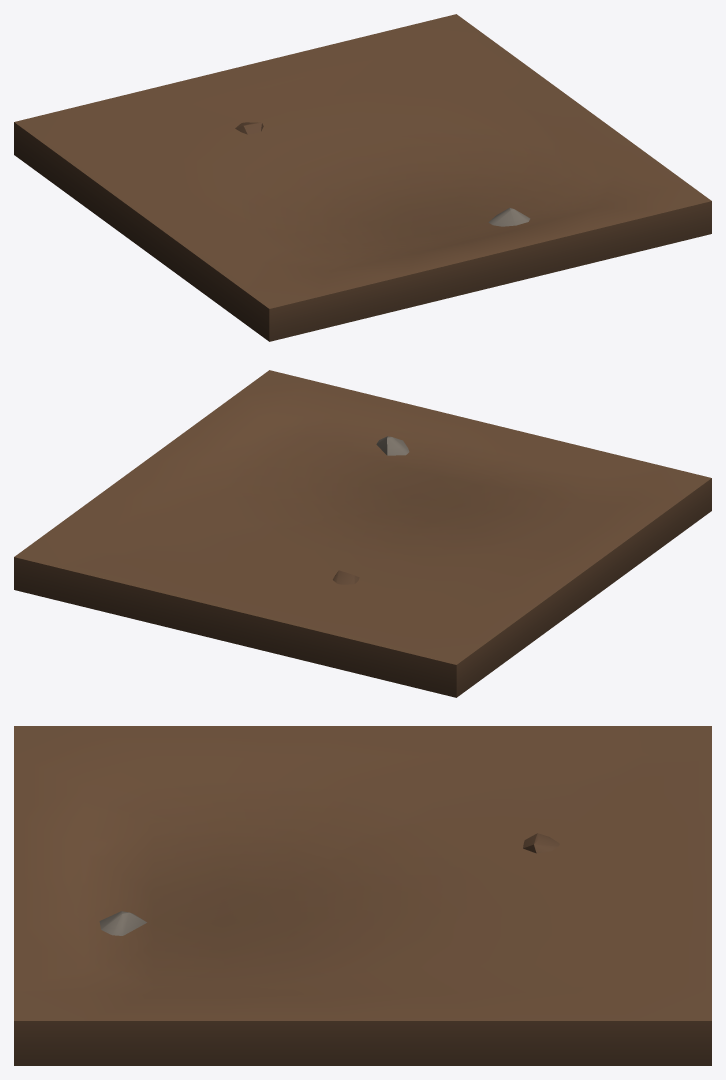
Rendered from floor_earth_small_C.glb.
3 views of the same model, one above another, from view 1: azimuth 30°, elevation 25°; view 2: azimuth 150°, elevation 25°; view 3: azimuth 270°, elevation 25° (orthographic). The views are drawn at different scales.
Parts seen in each view (by area): view 1: Item; view 2: Item; view 3: Item.
Boxes of the visible parts, x1,y1,x2,y2 form: Item: (14, 14, 711, 341); Item: (14, 370, 711, 697); Item: (14, 726, 711, 1065).
Bounding box in the file's own units: 2 × 0.1528 × 2.
1 material, 1 textured.
